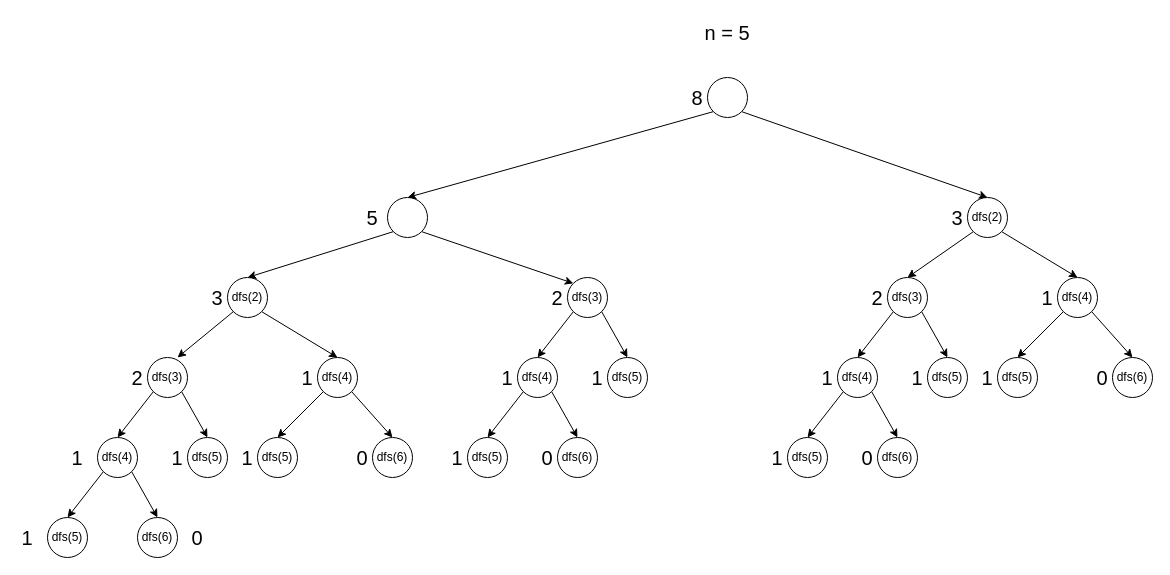
This 1170x575 diagram has some shape labels left out. Each missing label, with the centre of its shape:
"dfs(0)" goes at (727,97).
"dfs(1)" goes at (407,217).
